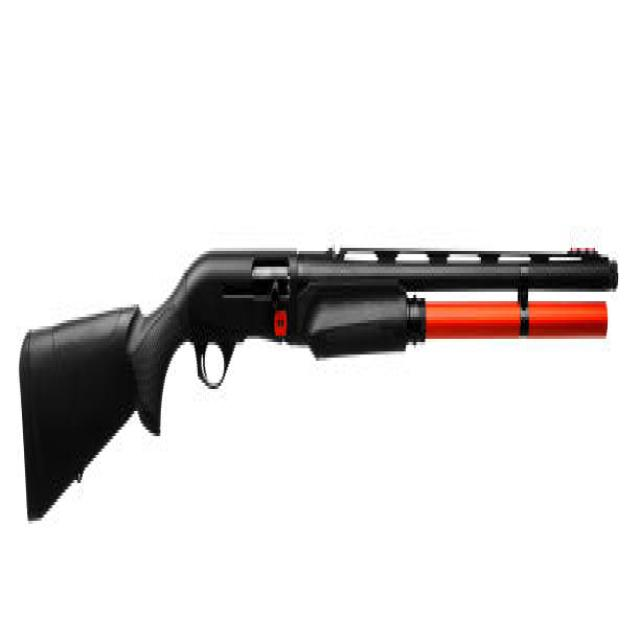rifle: (14, 196, 625, 536)
